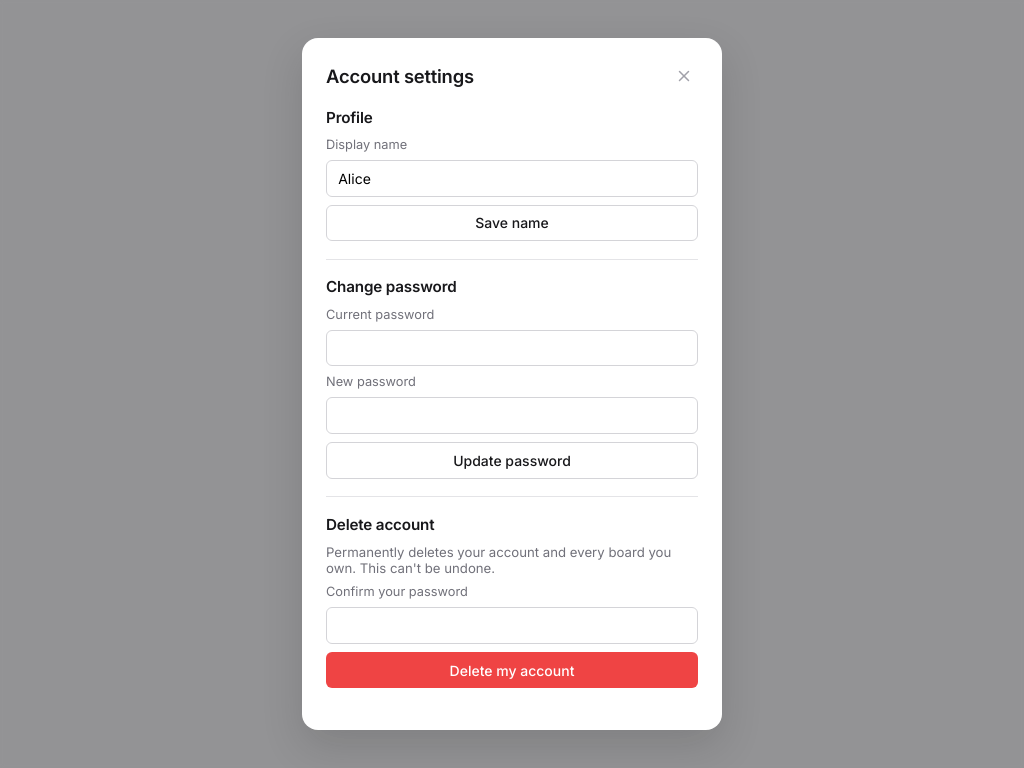
Test: AccountSettings › shows the backend error when the current password is wrong
Type "wrong" into the password field labelled "Current password". click: (512,348)
box: [326,330,698,366]
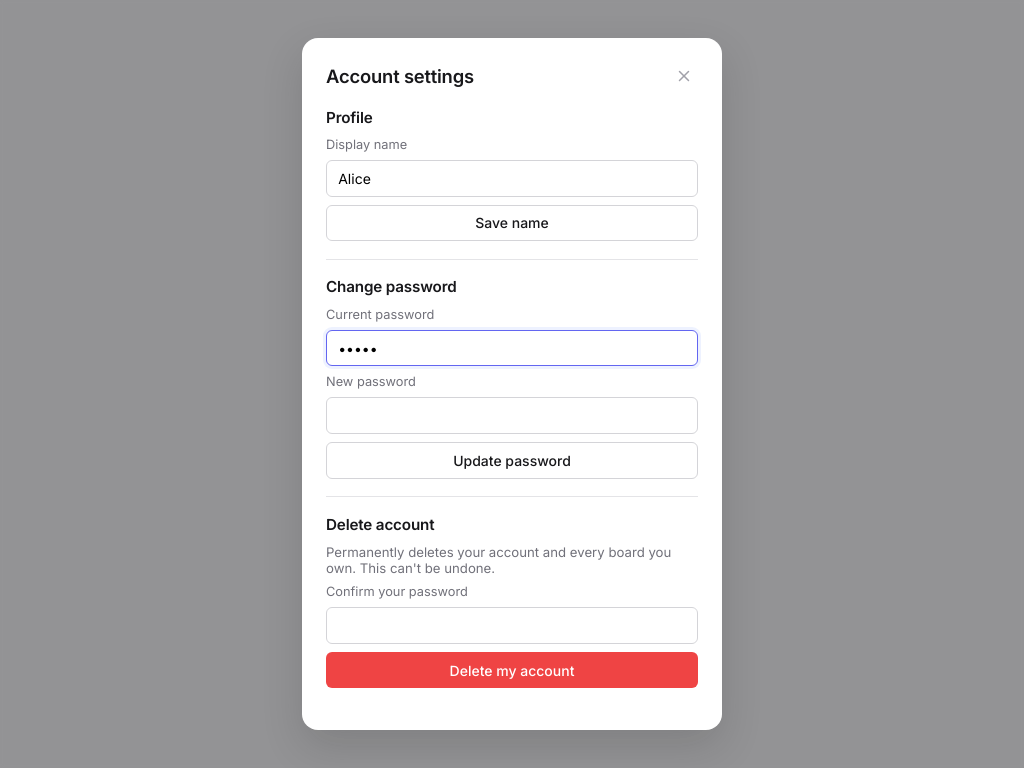
Type "new-secret-123" into the password field labelled "New password". click: (512,416)
box: [326,397,698,434]
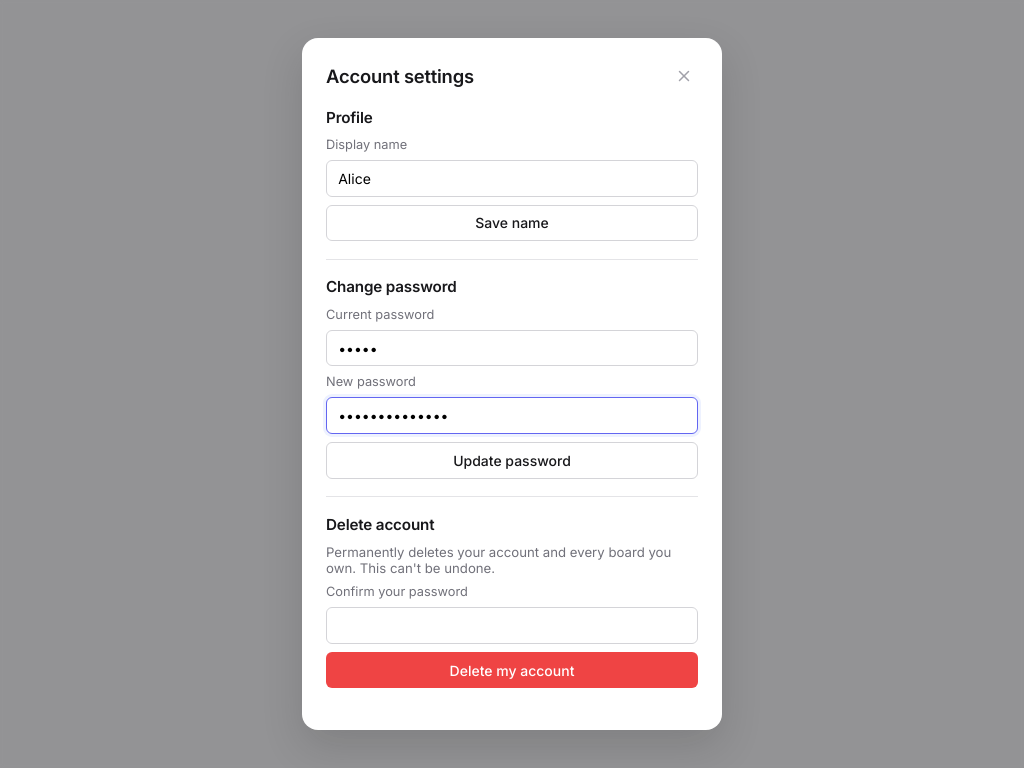
Click the button "Update password". click: (512,460)
box: [326,442,698,478]
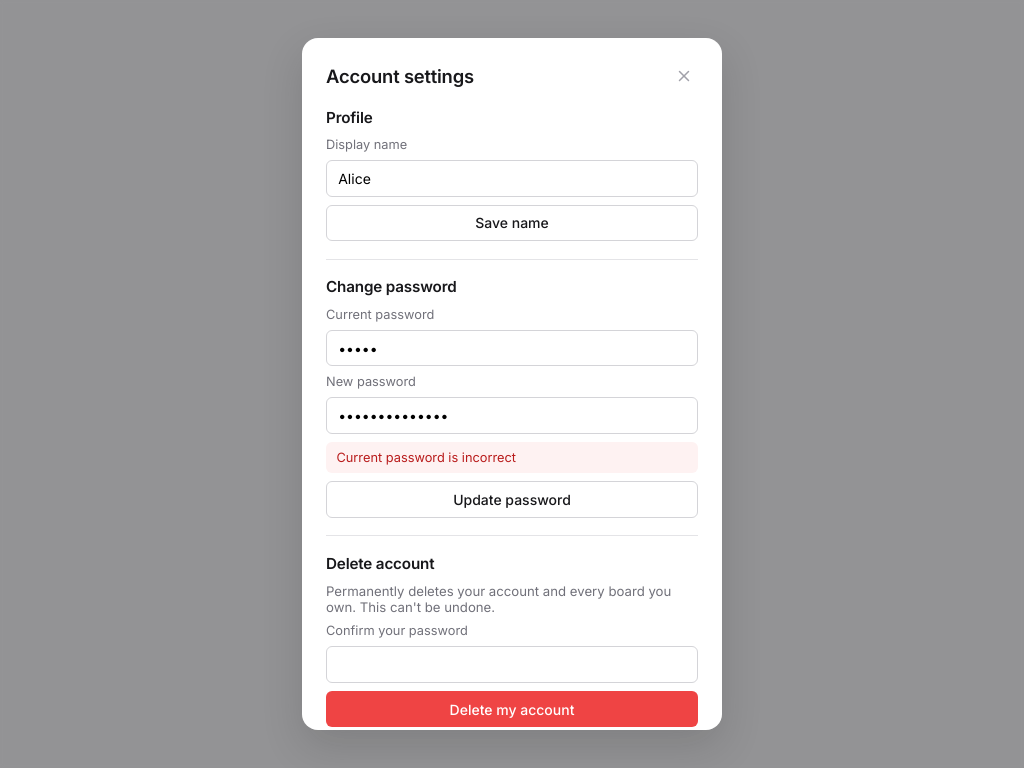
Now the text "Current password is incorrect" is shown, box [326,442,698,473]
